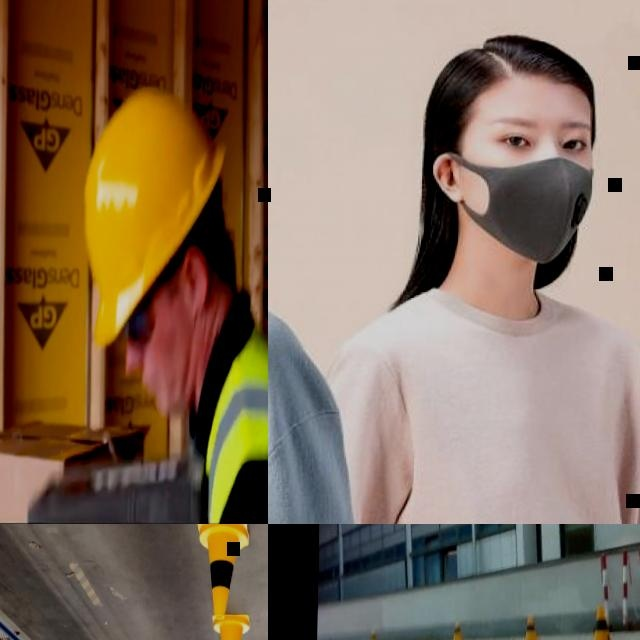Hardhat: (81, 83, 227, 351)
Mask: (432, 150, 596, 269)
NO-Hardhat: (425, 25, 597, 115)
NO-Mask: (151, 320, 195, 417)
NO-Safety Vest: (371, 301, 623, 524)
Person: (315, 21, 640, 524), (79, 78, 268, 524), (268, 0, 376, 524)
Safety Cone: (195, 524, 251, 624), (209, 612, 250, 640), (587, 605, 616, 640), (522, 616, 538, 640), (450, 621, 461, 640), (368, 630, 376, 640)
Safety Vest: (204, 329, 268, 524)
